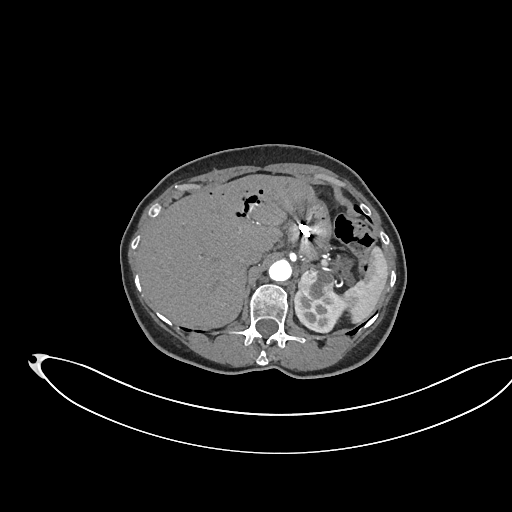Lesion: (298, 266, 335, 304)
